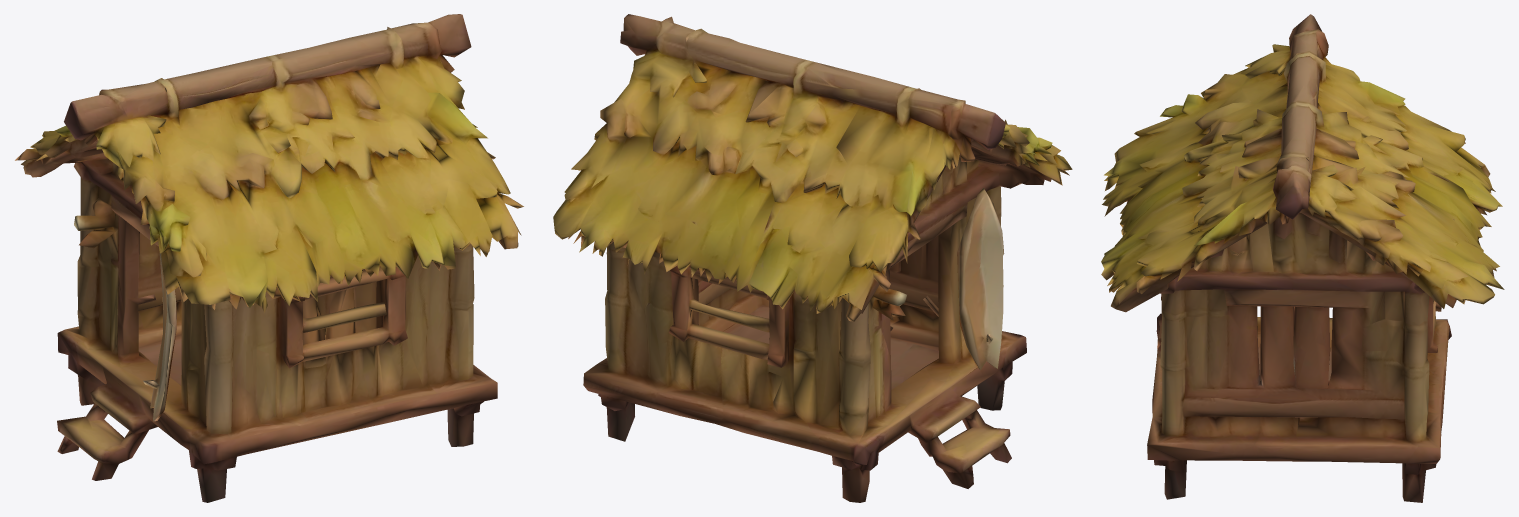
The model's file is env-hut.glb.
3 renders of one model, left to right at view 1: azimuth 30°, elevation 25°; view 2: azimuth 150°, elevation 25°; view 3: azimuth 270°, elevation 25°, orthographic. The views are drawn at different scales.
Visible parts, largest first — view 1: tripo_node_498477c9-5ad9-4fbb-87a9-1a829039b499; view 2: tripo_node_498477c9-5ad9-4fbb-87a9-1a829039b499; view 3: tripo_node_498477c9-5ad9-4fbb-87a9-1a829039b499.
Boxes of the visible parts, x1=… form: tripo_node_498477c9-5ad9-4fbb-87a9-1a829039b499: x1=15, y1=14, x2=523, y2=502; tripo_node_498477c9-5ad9-4fbb-87a9-1a829039b499: x1=553, y1=14, x2=1072, y2=502; tripo_node_498477c9-5ad9-4fbb-87a9-1a829039b499: x1=1101, y1=14, x2=1504, y2=502.
Size of the model in its own units: 1 by 0.9219 by 0.9819.
Materials: 1 (1 with a texture image).
